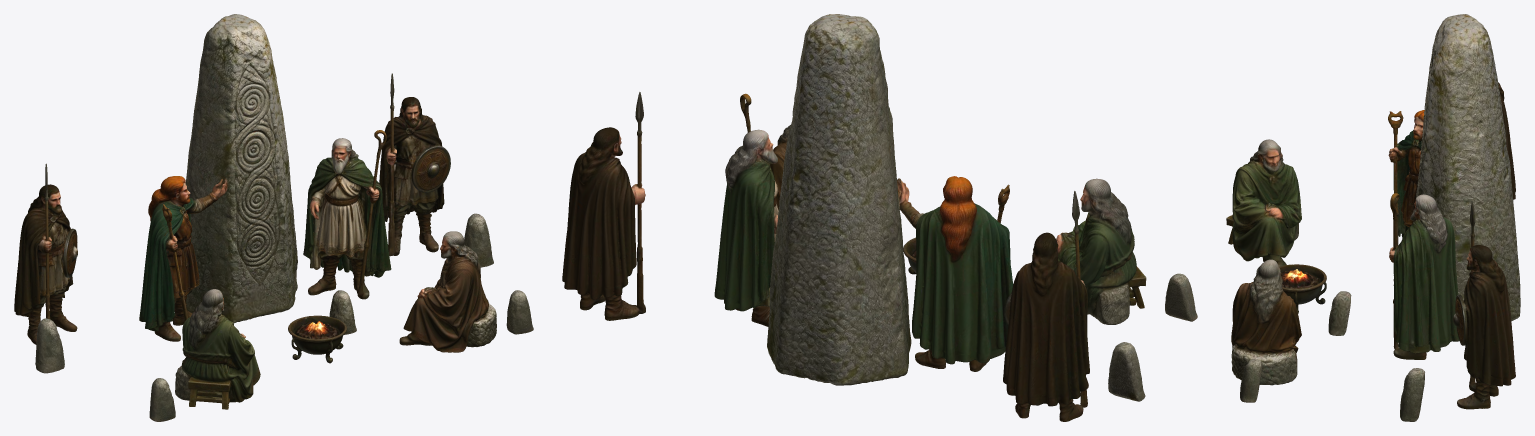
Rendered from 6stone.glb.
3 views of the same model, side by side, from view 1: azimuth 30°, elevation 25°; view 2: azimuth 150°, elevation 25°; view 3: azimuth 270°, elevation 25° (orthographic). The views are drawn at different scales.
Parts seen in each view (by area): view 1: Mesh_0; view 2: Mesh_0; view 3: Mesh_0.
Part boxes in pixels (x1,y1,x2,y2): Mesh_0: [14, 14, 533, 421]; Mesh_0: [562, 14, 1197, 421]; Mesh_0: [1226, 14, 1520, 421].
Bounding box in the file's own units: 6.8 × 4 × 3.72.
Materials: 1 (1 with a texture image).
